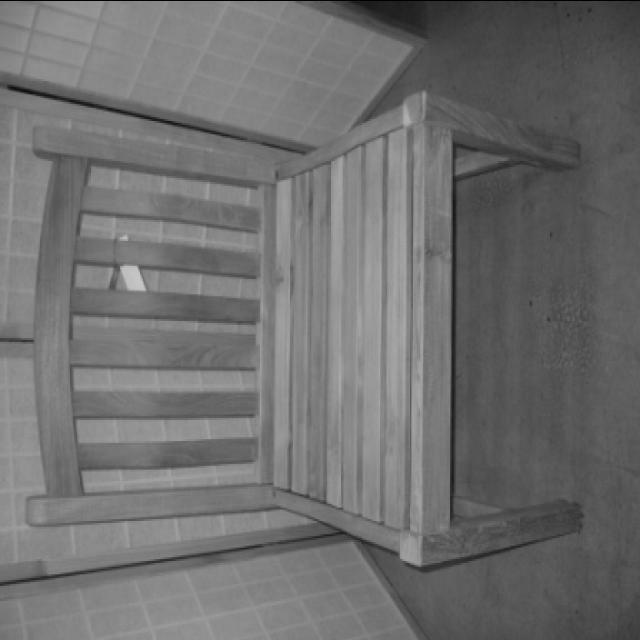chair: (24, 87, 586, 566)
